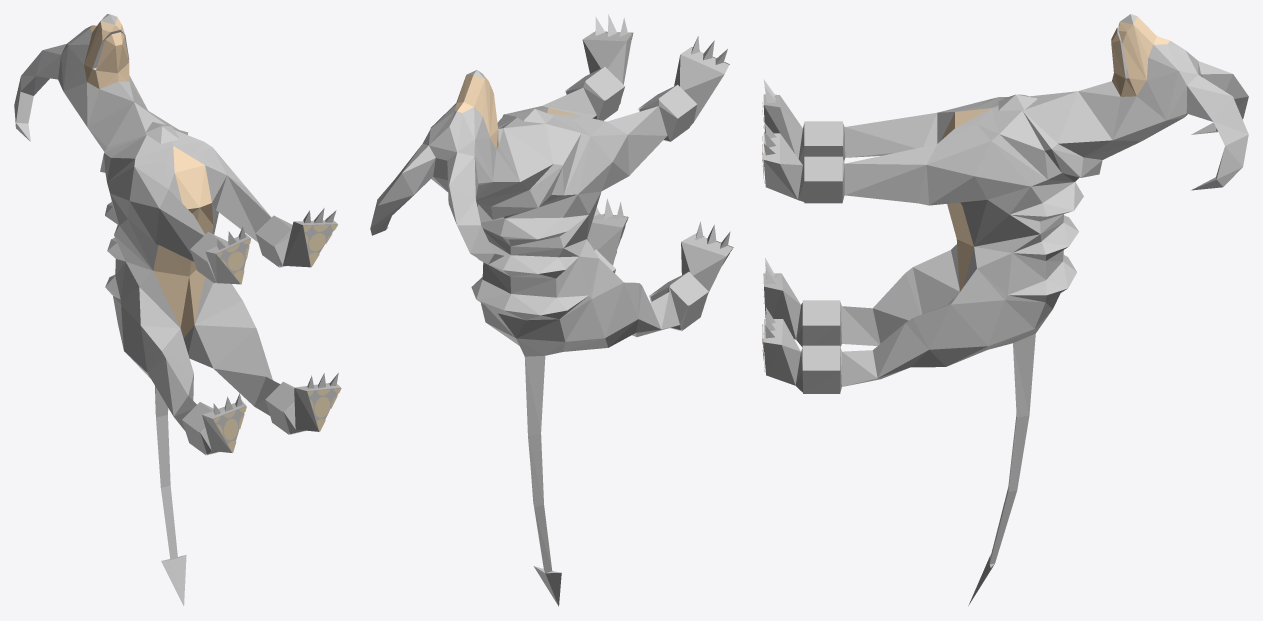
Rendered from BR_Houndoom-Shiny01.obj.
The picture shows the model from 3 angles, left to right: view 1: azimuth 30°, elevation 25°; view 2: azimuth 150°, elevation 25°; view 3: azimuth 270°, elevation 25°; orthographic projection. The views are drawn at different scales.
Parts seen in each view (by area): view 1: hellgar_c; view 2: hellgar_c; view 3: hellgar_c.
Boxes of the visible parts, <box> form: hellgar_c: <box>14,14,341,605</box>; hellgar_c: <box>370,14,733,606</box>; hellgar_c: <box>762,14,1248,605</box>.
Size of the model in its own units: 4.89 by 18.86 by 14.04.
